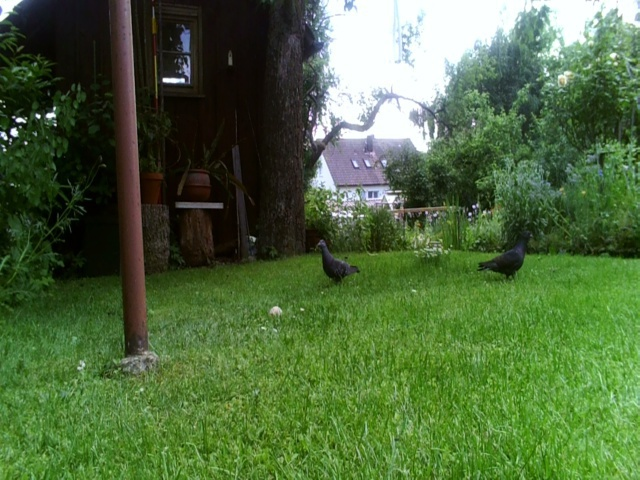Pigeon: (474, 225, 544, 283), (311, 235, 363, 284)
